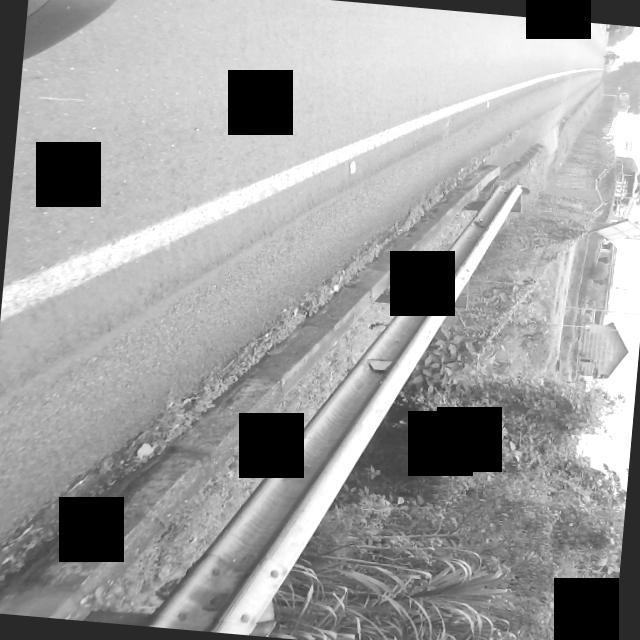DITCH: (0, 10, 606, 640), (0, 35, 600, 640)
